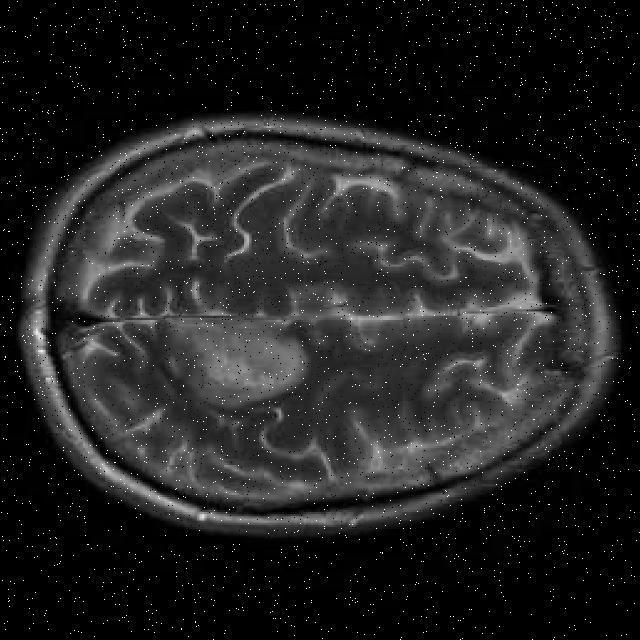Meningioma: (141, 320, 307, 407)
